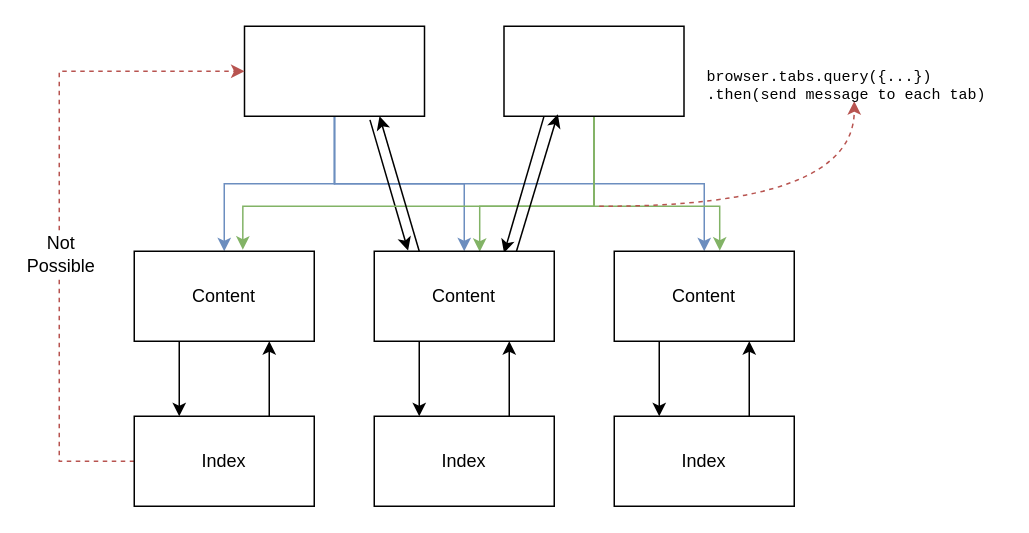
Some shapes in this 1029 by 533 pixel diagram are drawn without their labels. The shapes that lost their labels are listed below. From the top down, each one's box as (x1, y1, x2, y2) in pixels, then its label:
(243, 25, 424, 116): Background
(502, 25, 684, 116): Popup
